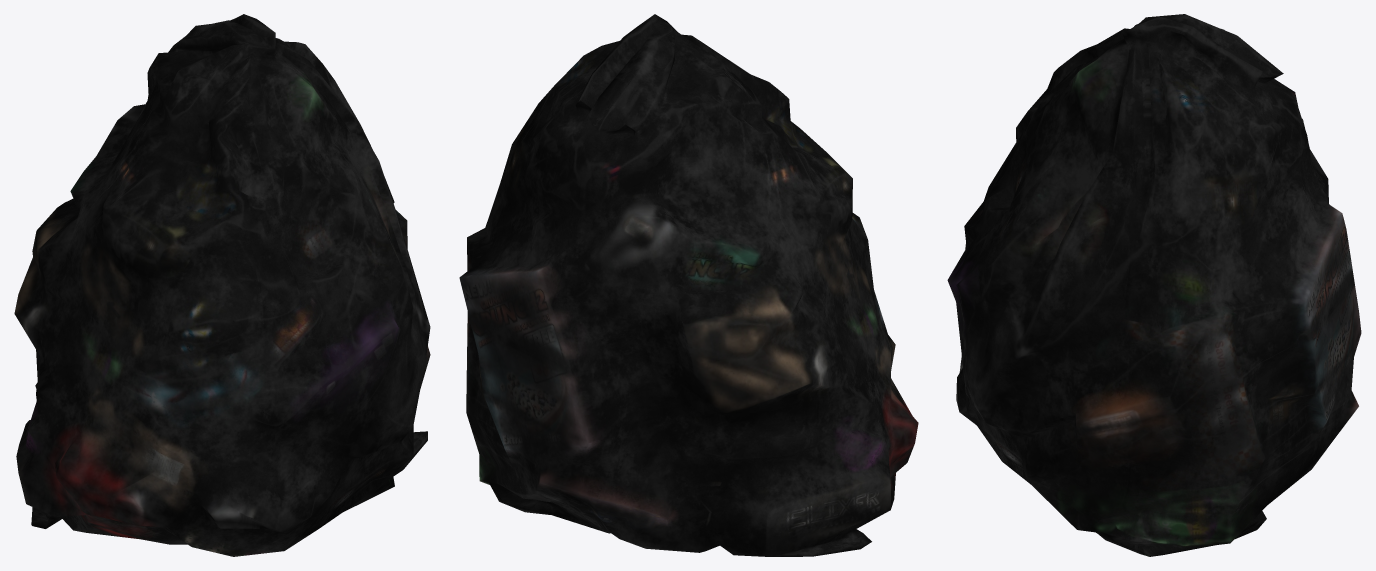
Rendered from trashbag.lite.gltf.
The picture shows the model from 3 angles, left to right: view 1: azimuth 30°, elevation 25°; view 2: azimuth 150°, elevation 25°; view 3: azimuth 270°, elevation 25°; orthographic projection. The views are drawn at different scales.
Visible parts, largest first — view 1: trashbag; view 2: trashbag; view 3: trashbag.
Part boxes in pixels (left/top/right/bottom): trashbag: left=14, top=14, right=430, bottom=556; trashbag: left=459, top=14, right=918, bottom=556; trashbag: left=947, top=14, right=1361, bottom=556.
Size of the model in its own units: 0.5236 by 0.575 by 0.4629.
1 material, 1 textured.
